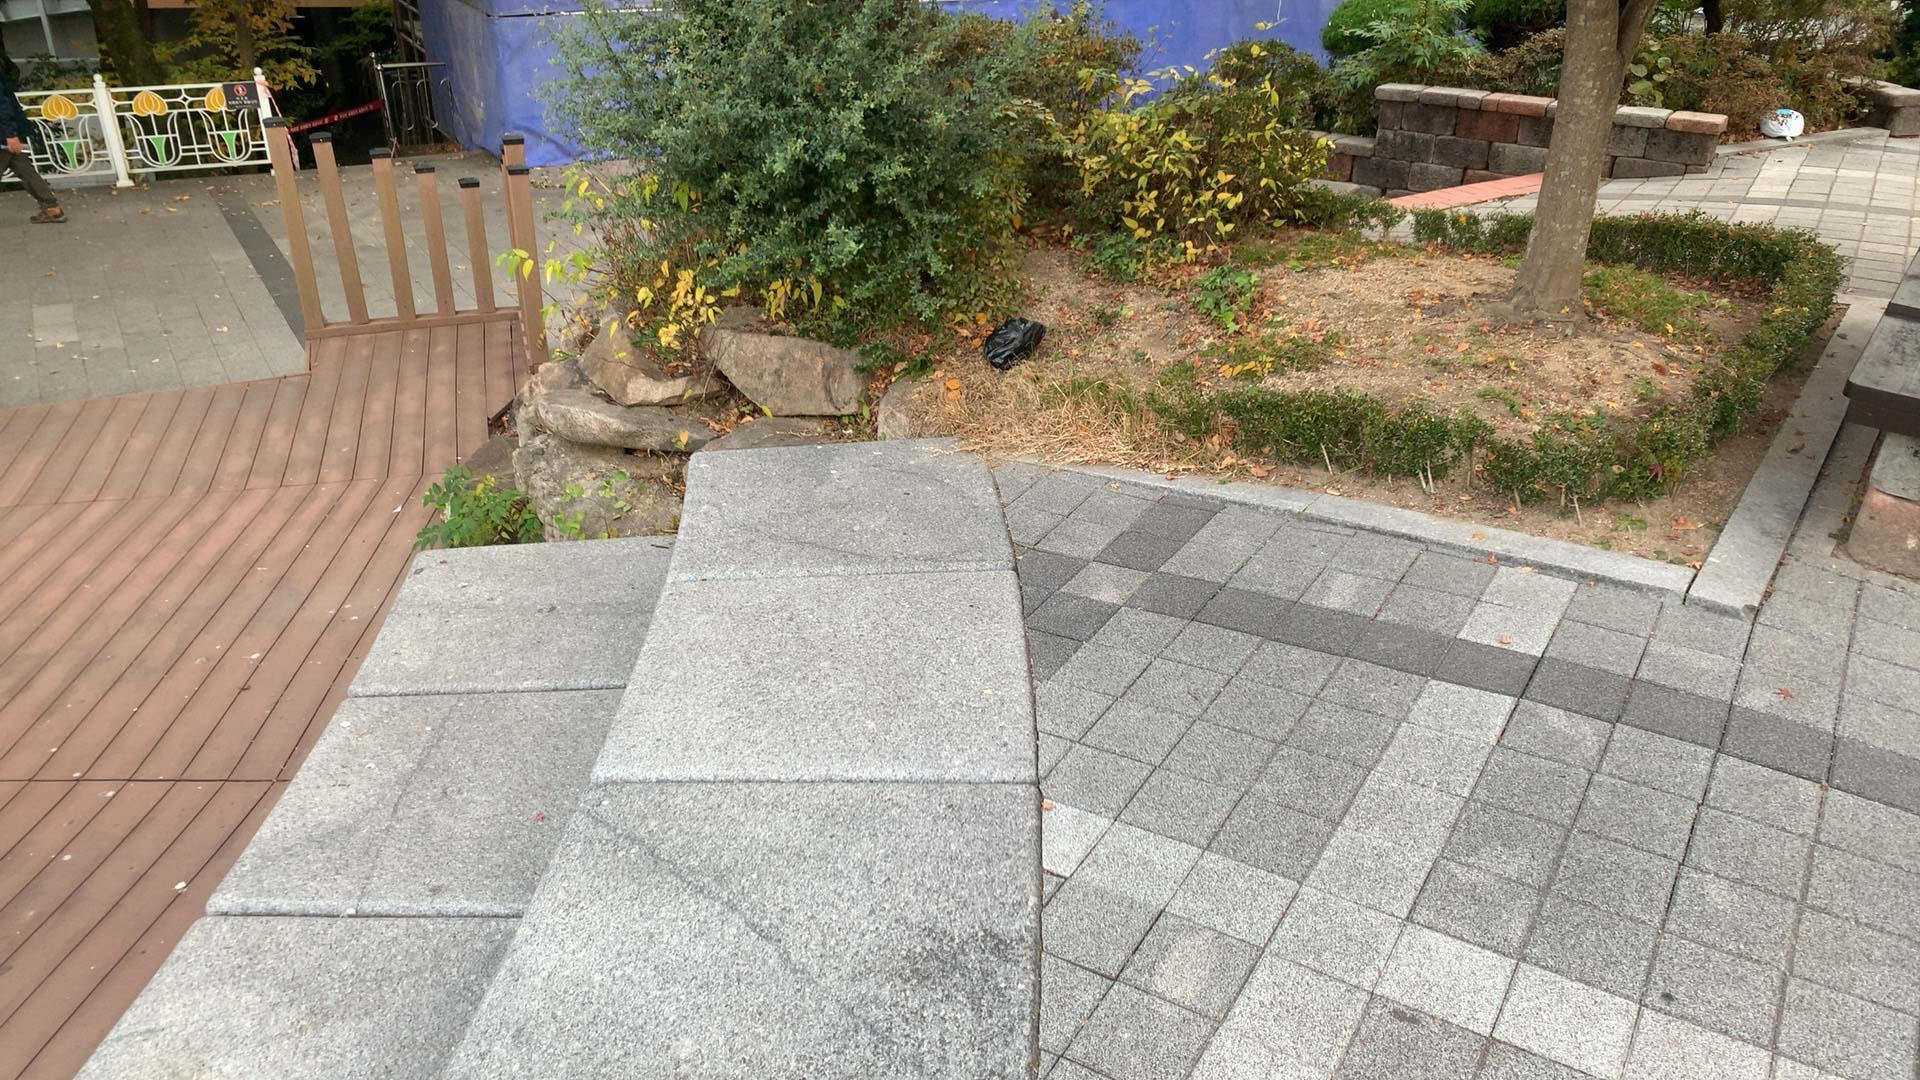black_bag: (980, 313, 1049, 372)
